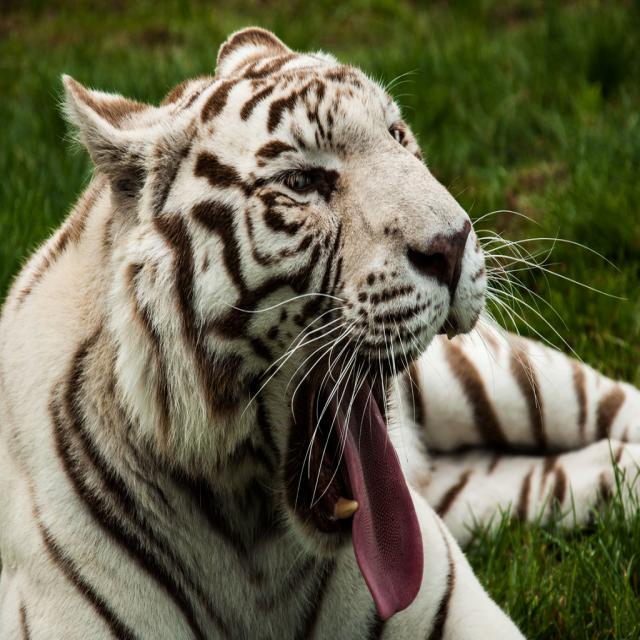Tiger: (0, 26, 640, 640)
